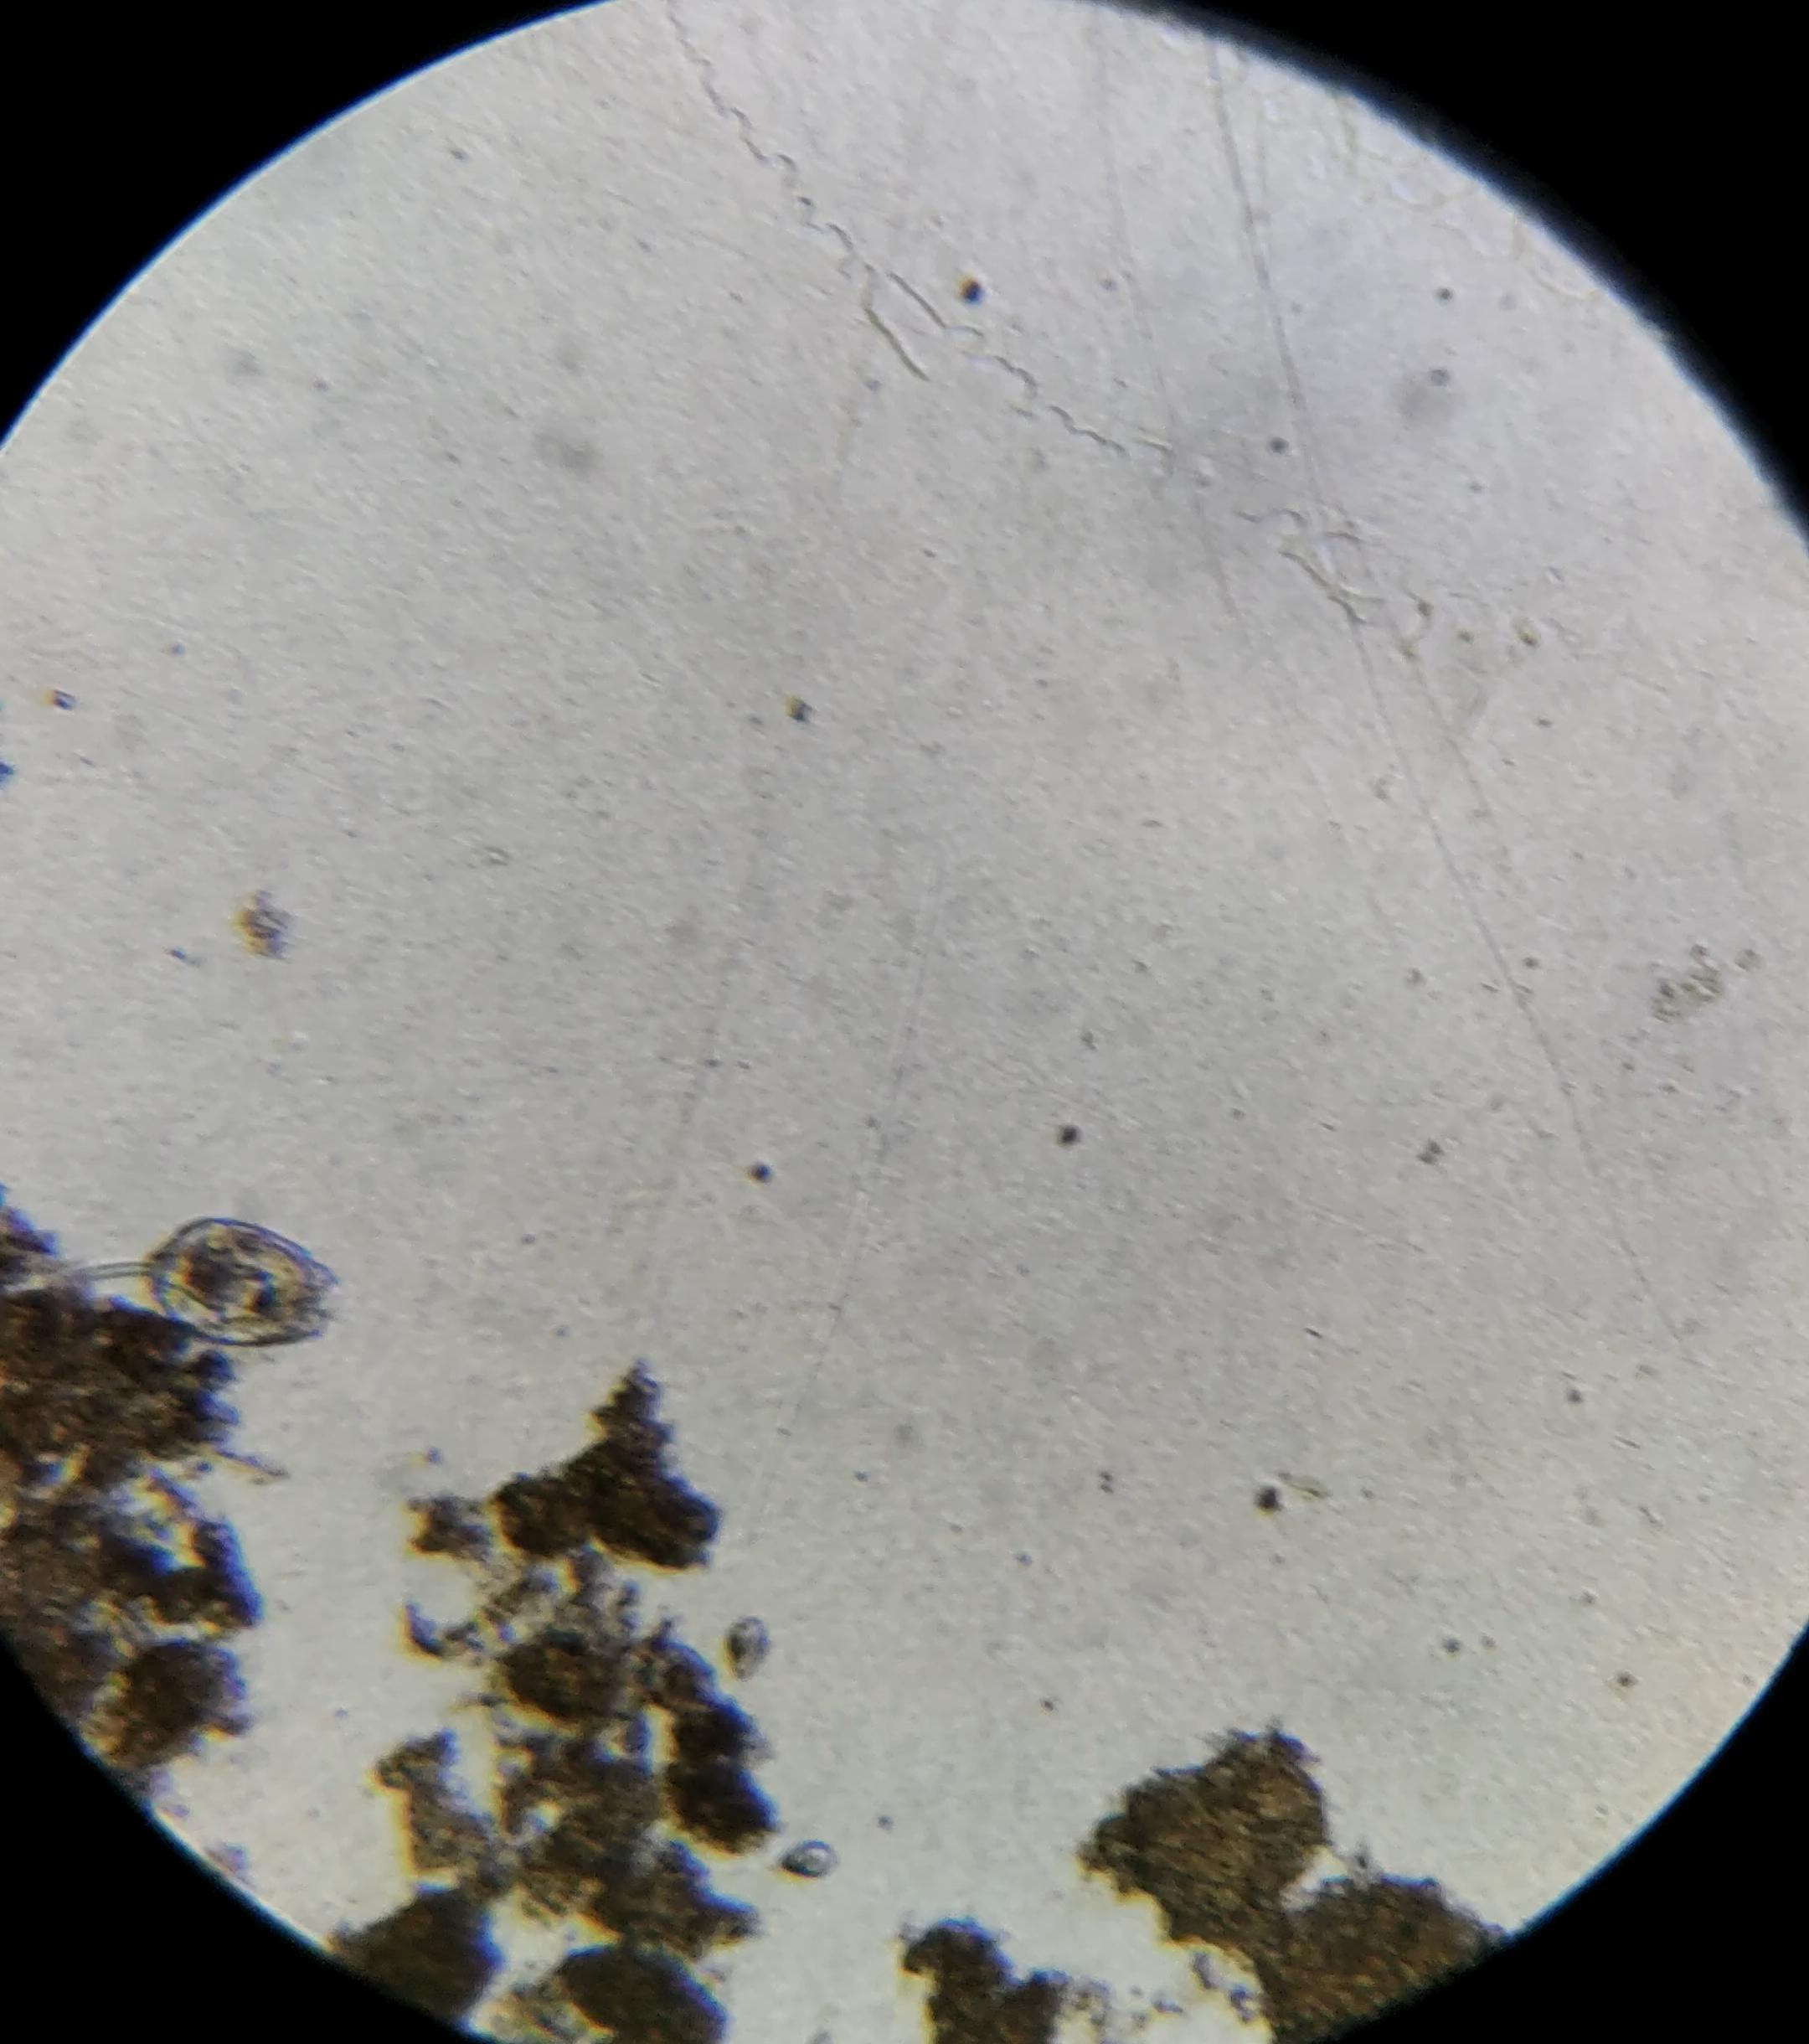Mo: (65, 1219, 339, 1347)
